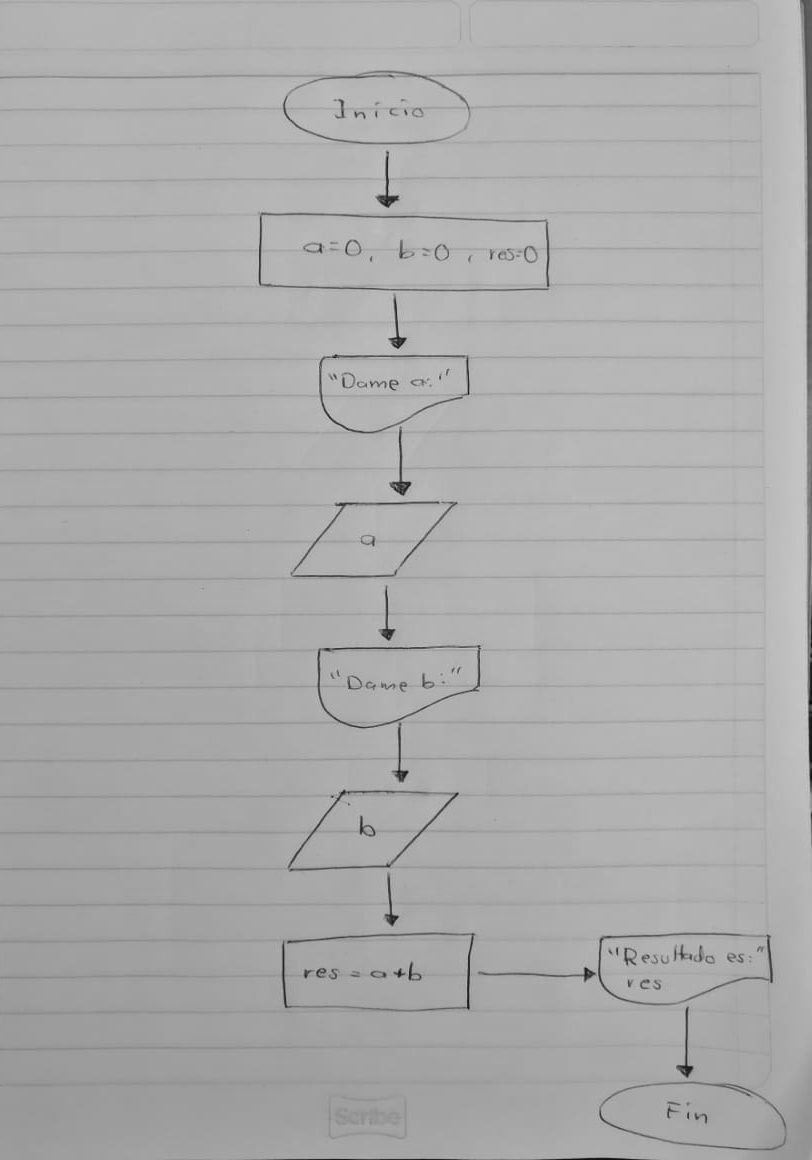arrow_line_down: (374, 147, 401, 215), (388, 426, 412, 500), (676, 1003, 697, 1079), (390, 721, 411, 791), (384, 291, 408, 352), (378, 581, 398, 646), (379, 870, 401, 929)
arrow_line_right: (476, 966, 597, 985)
print: (596, 927, 777, 1009), (315, 644, 485, 730), (315, 352, 474, 436)
process: (254, 208, 554, 297), (279, 930, 475, 1015)
scan: (284, 497, 462, 584), (285, 787, 461, 871)
start_end: (279, 65, 476, 151), (596, 1077, 791, 1155)
